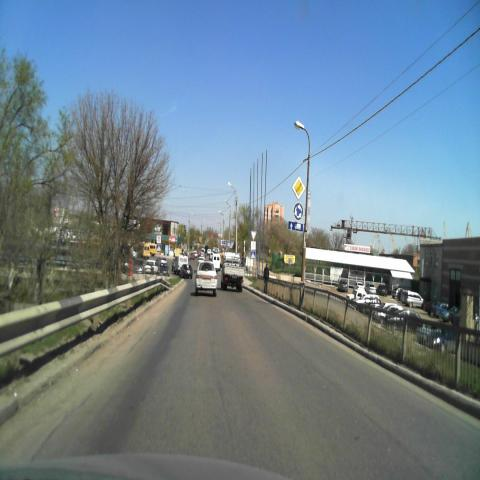4_3: (294, 202, 303, 220)
6_15_1: (288, 220, 303, 232)
